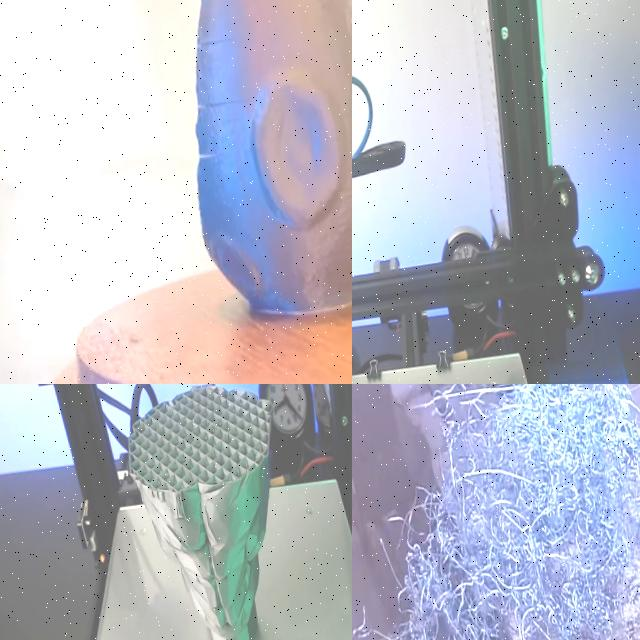spaghetti: (352, 384, 640, 640)
